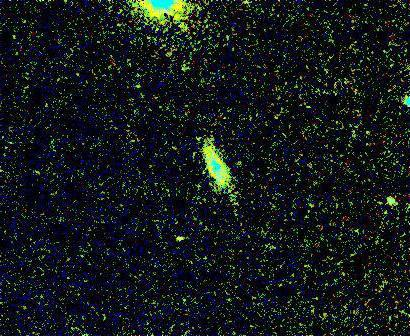star: (163, 224, 193, 254)
